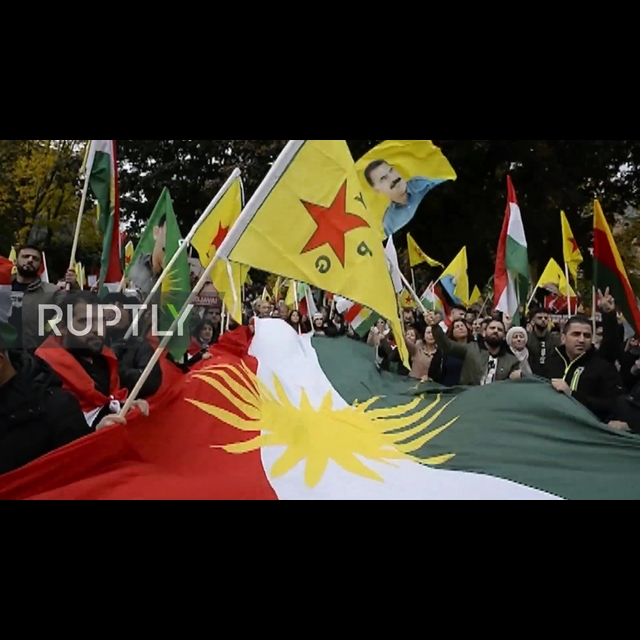APO: (364, 160, 411, 203)
YPG: (289, 188, 373, 275)
